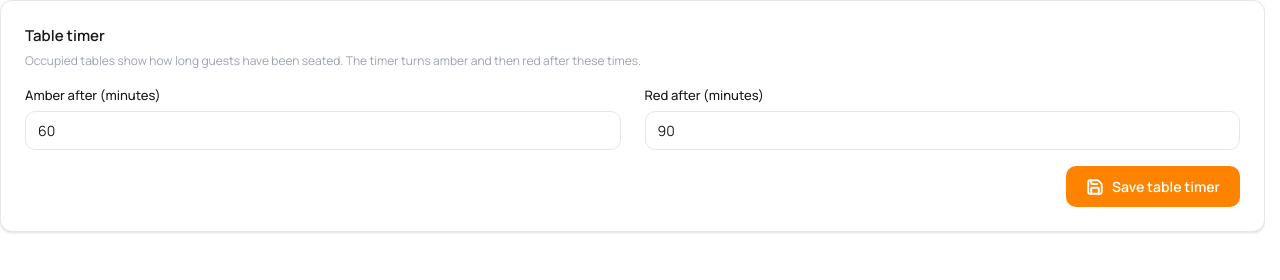
Test case: TableTimerSettings › out-of-range blocks save; server error is shown
Step 1. Replace the text in the number field labelled "Red after (minutes)" with "2000" → (942, 130), box [644,111,1240,150]
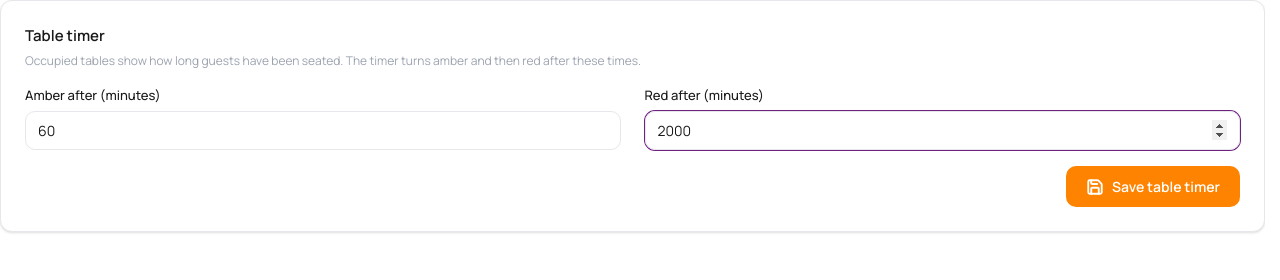
Step 2. Click the button "Save table timer" → (1153, 186), box [1066,166,1240,207]
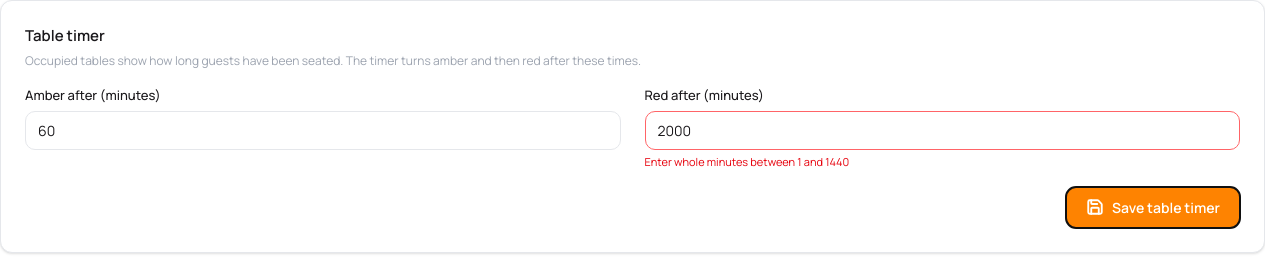
Now the text "Enter whole minutes between 1 and 1440" is shown, box [644,154,849,169]
Step 3. Replace the text in the number field labelled "Red after (minutes)" with "100" → (942, 130), box [644,111,1240,150]
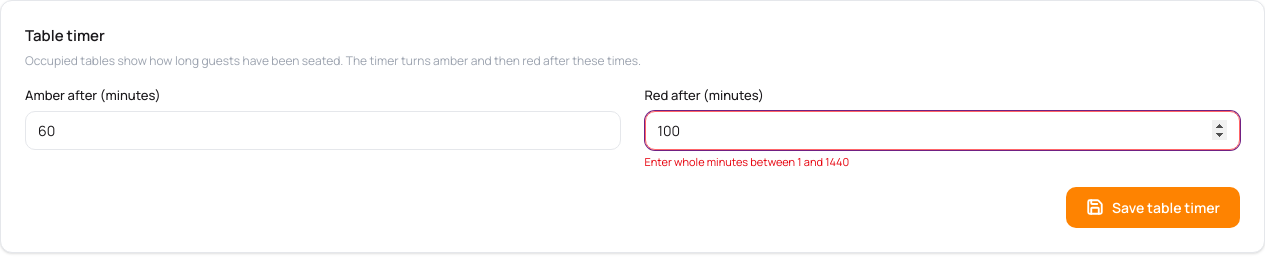
Step 4. Click the button "Save table timer" → (1153, 207), box [1066,186,1240,228]
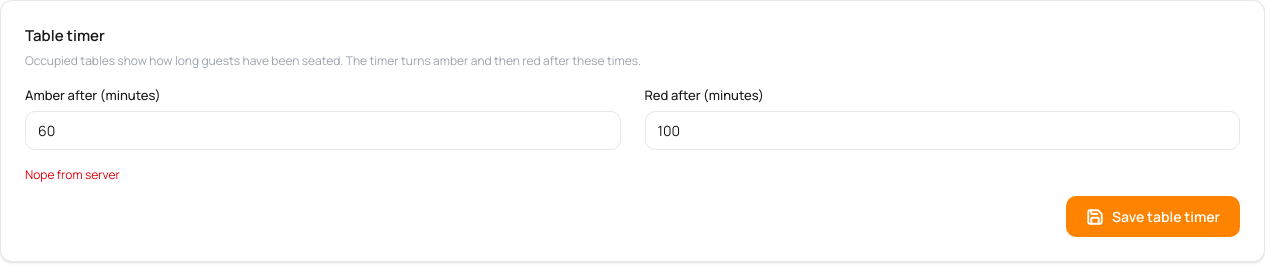
Now the text "Nope from server" is shown, box [25,166,120,183]
